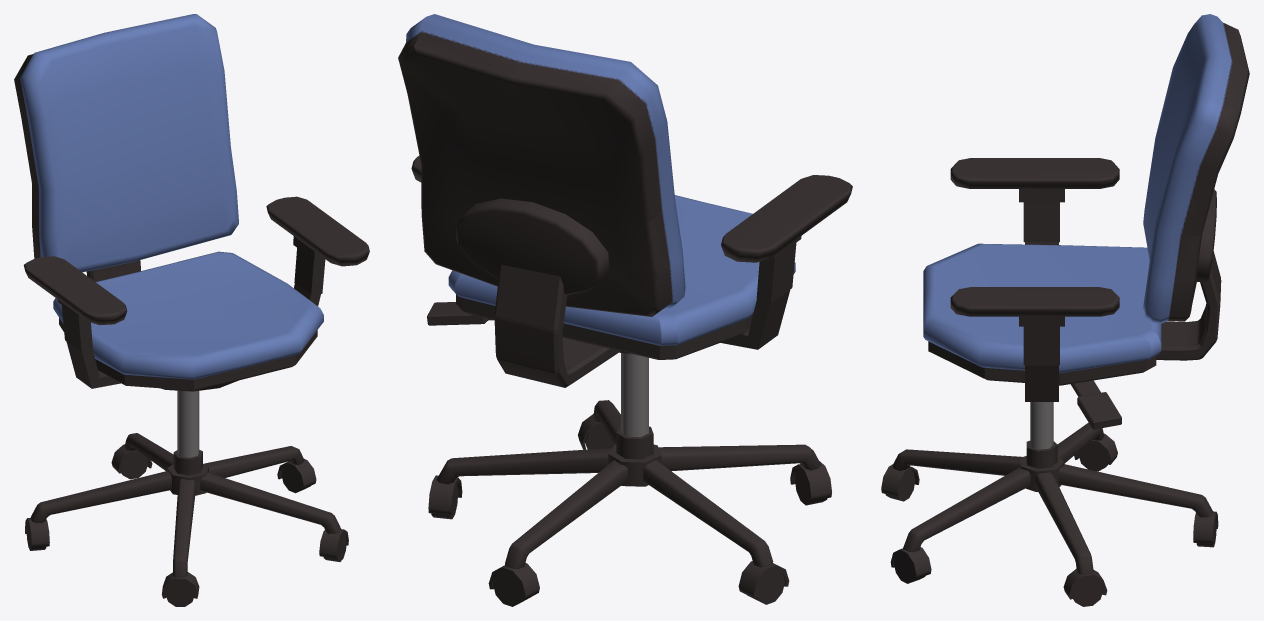
The model's file is Bureaustoel.fbx.
3 renders of one model, left to right at view 1: azimuth 30°, elevation 25°; view 2: azimuth 150°, elevation 25°; view 3: azimuth 270°, elevation 25°, orthographic. The views are drawn at different scales.
Visible parts, largest first — view 1: BureauStoel; view 2: BureauStoel; view 3: BureauStoel.
Boxes of the visible parts, x1=… form: BureauStoel: x1=14, y1=14, x2=369, y2=606; BureauStoel: x1=398, y1=14, x2=852, y2=606; BureauStoel: x1=881, y1=14, x2=1249, y2=606.
Bounding box in the file's own units: 66.21 × 98.77 × 68.13.
Materials: 1 (1 with a texture image).
